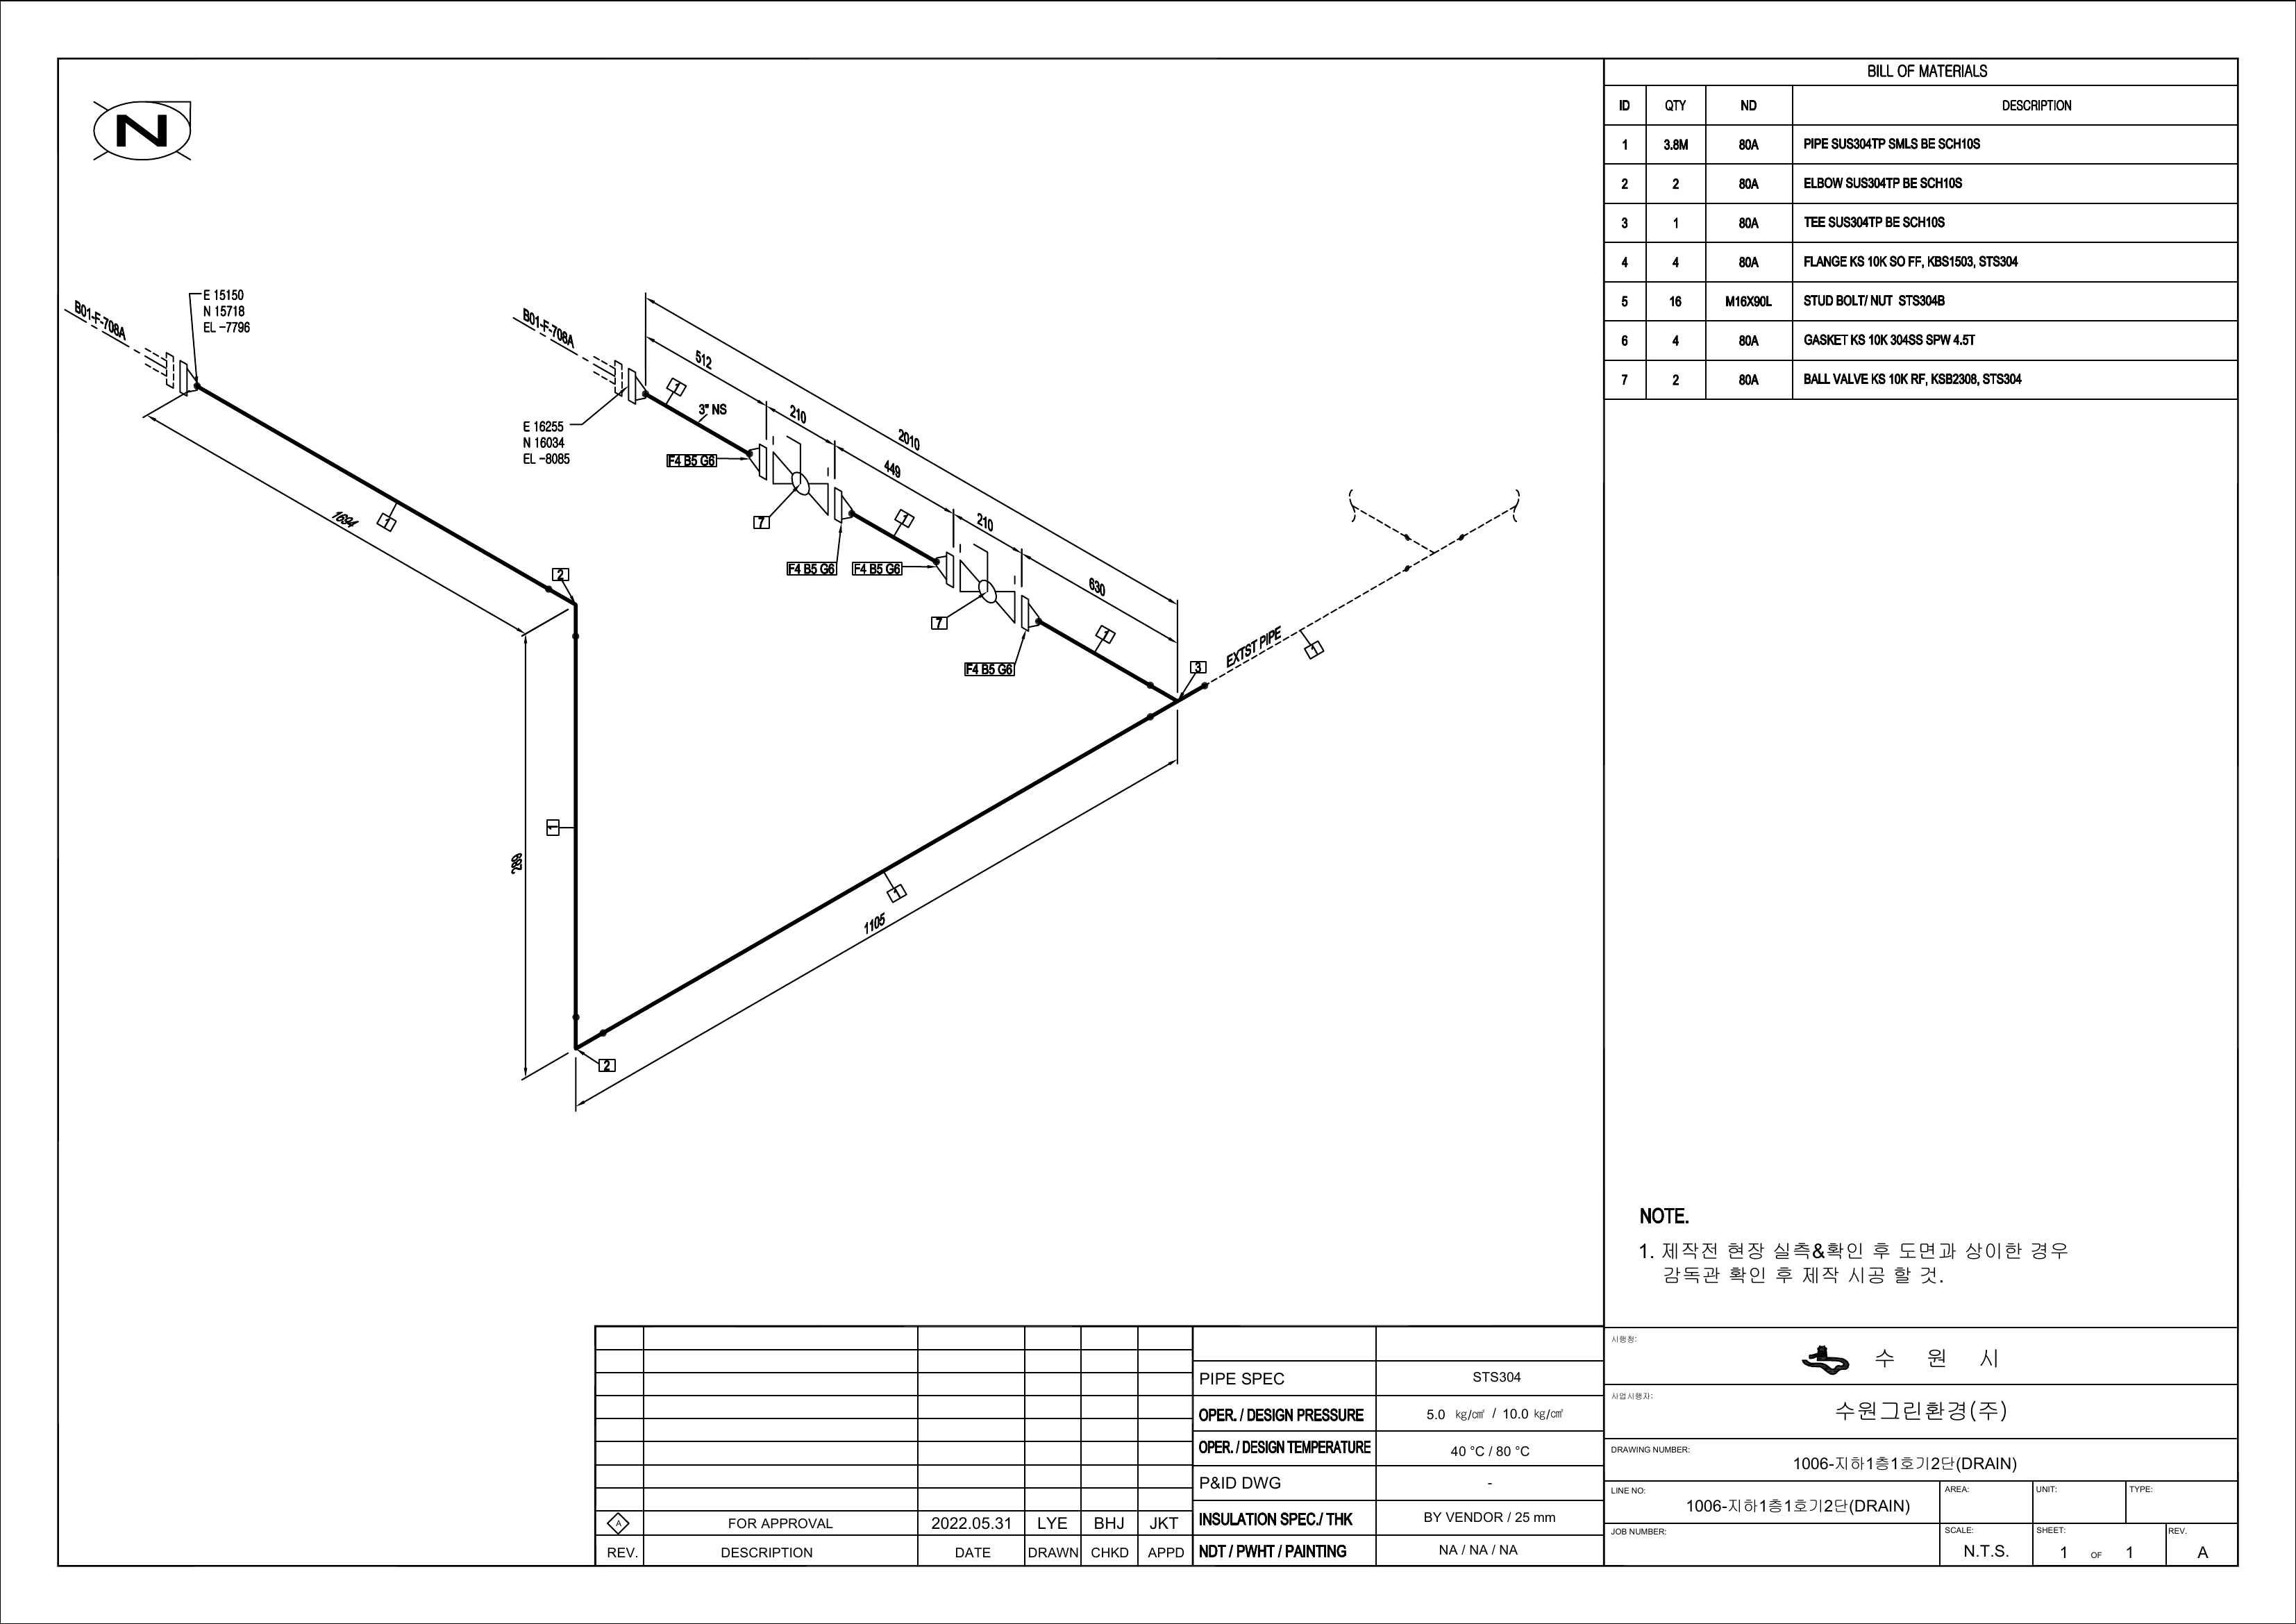table: (1597, 47, 2242, 402)
